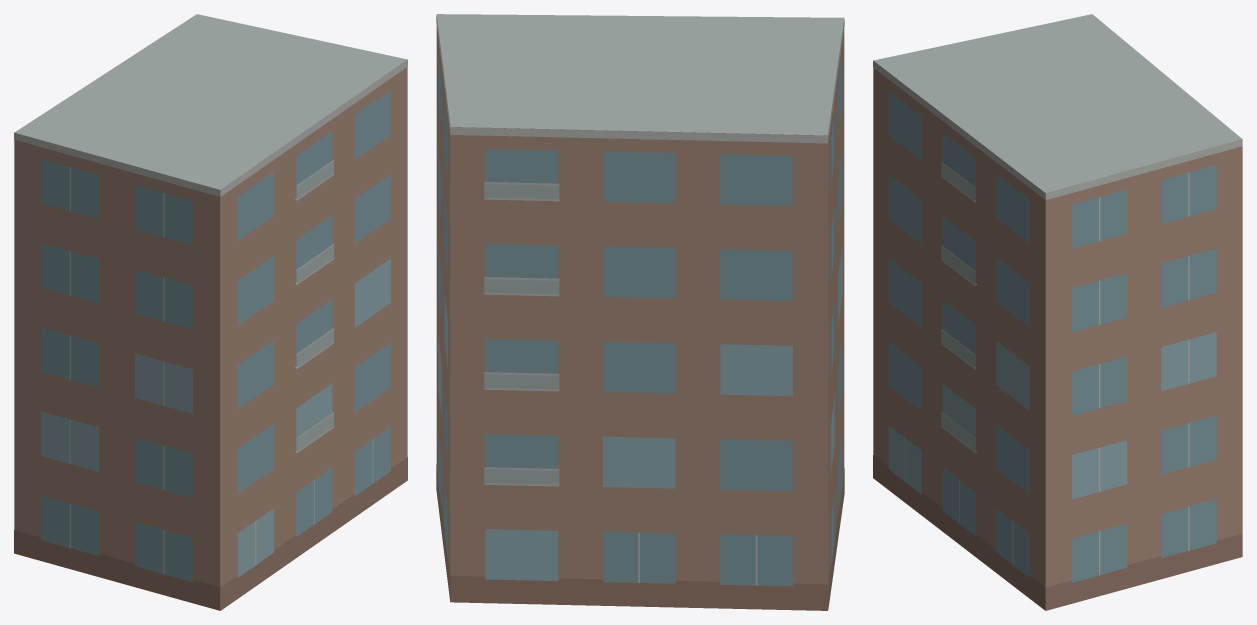
File: survey-upis-32538262.glb
The picture shows the model from 3 angles, left to right: view 1: azimuth 30°, elevation 25°; view 2: azimuth 150°, elevation 25°; view 3: azimuth 270°, elevation 25°; orthographic projection. The views are drawn at different scales.
Visible parts, largest first — view 1: survey-upis-32538262.tmp; view 2: survey-upis-32538262.tmp; view 3: survey-upis-32538262.tmp.
Boxes of the visible parts, bbox=[...] form: survey-upis-32538262.tmp: bbox=[14, 14, 407, 610]; survey-upis-32538262.tmp: bbox=[436, 14, 844, 610]; survey-upis-32538262.tmp: bbox=[873, 14, 1242, 610].
Size of the model in its own units: 13.35 by 14.5 by 11.64.
